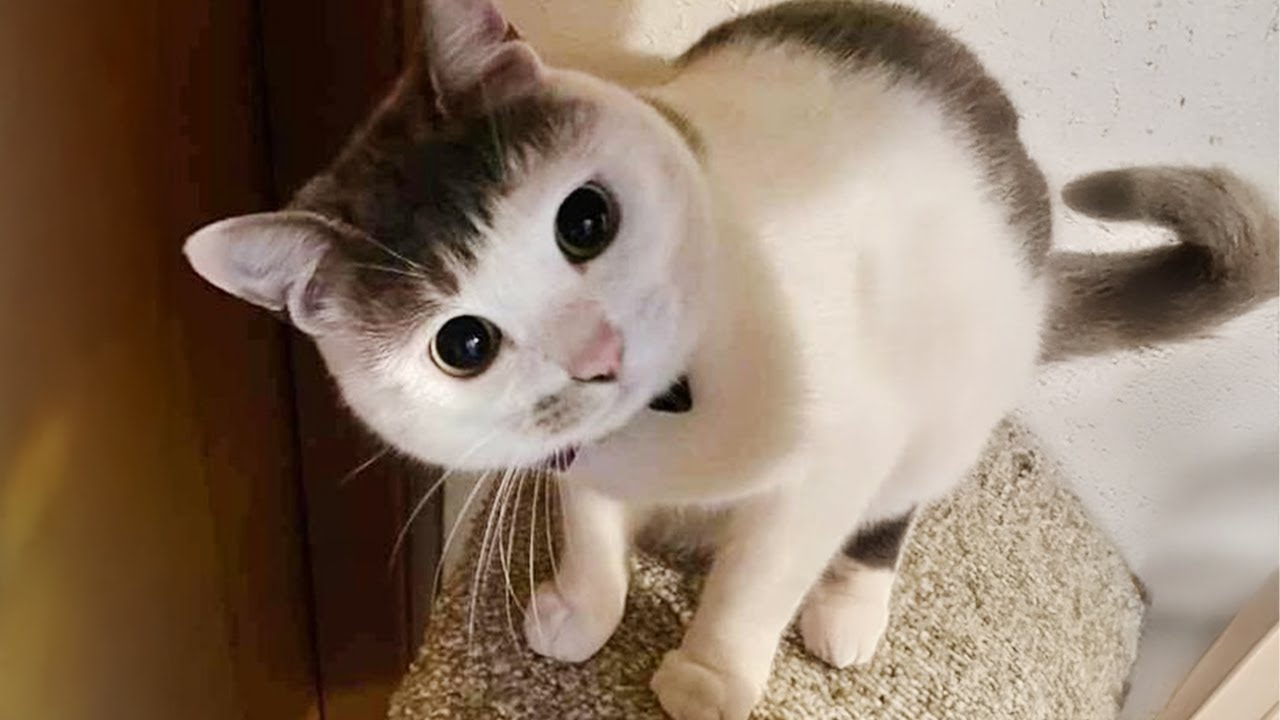Cat: (134, 15, 1276, 711)
